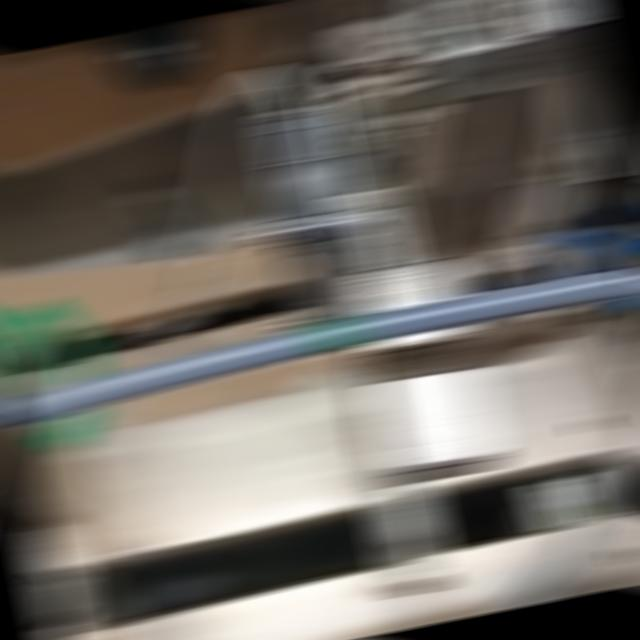green: (308, 316, 367, 352)
